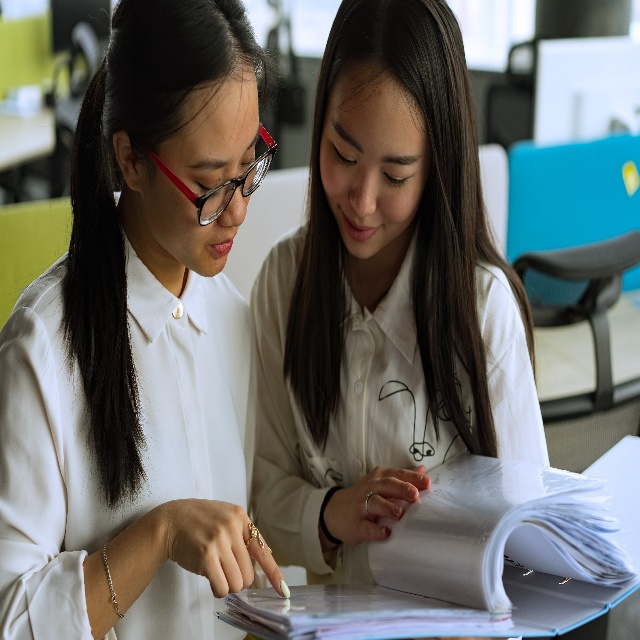Gafas: (193, 145, 278, 226)
Sin_guantes: (168, 492, 292, 606), (335, 476, 431, 540)
